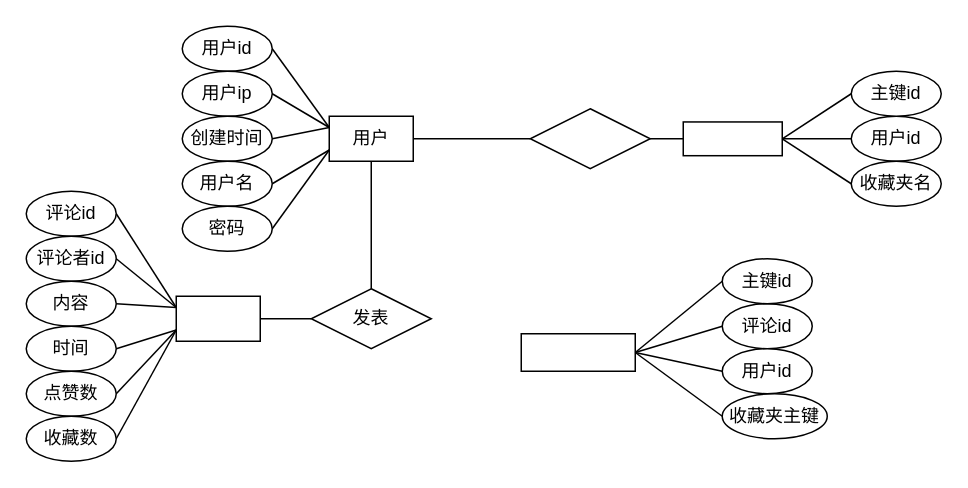
This 968x488 diagram has some shape labels left out. Here are the shapes that lost their labels. From the top down, the box of each, then its label:
(529, 107, 650, 169): 拥有
(682, 120, 782, 156): 收藏夹
(175, 295, 260, 341): 短句
(520, 332, 635, 371): 短句 - 收藏夹
